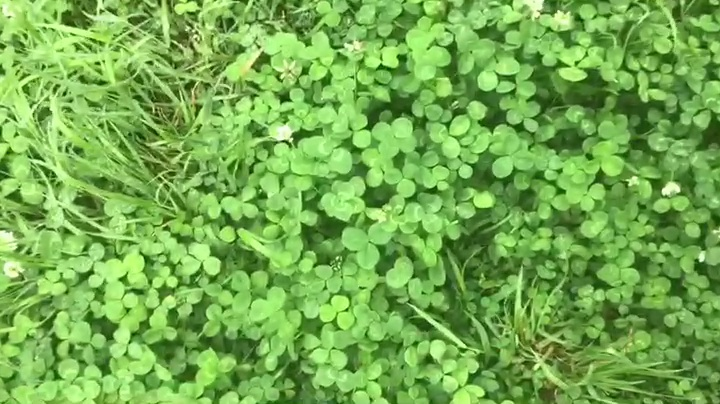4-clover: (374, 115, 417, 160)
